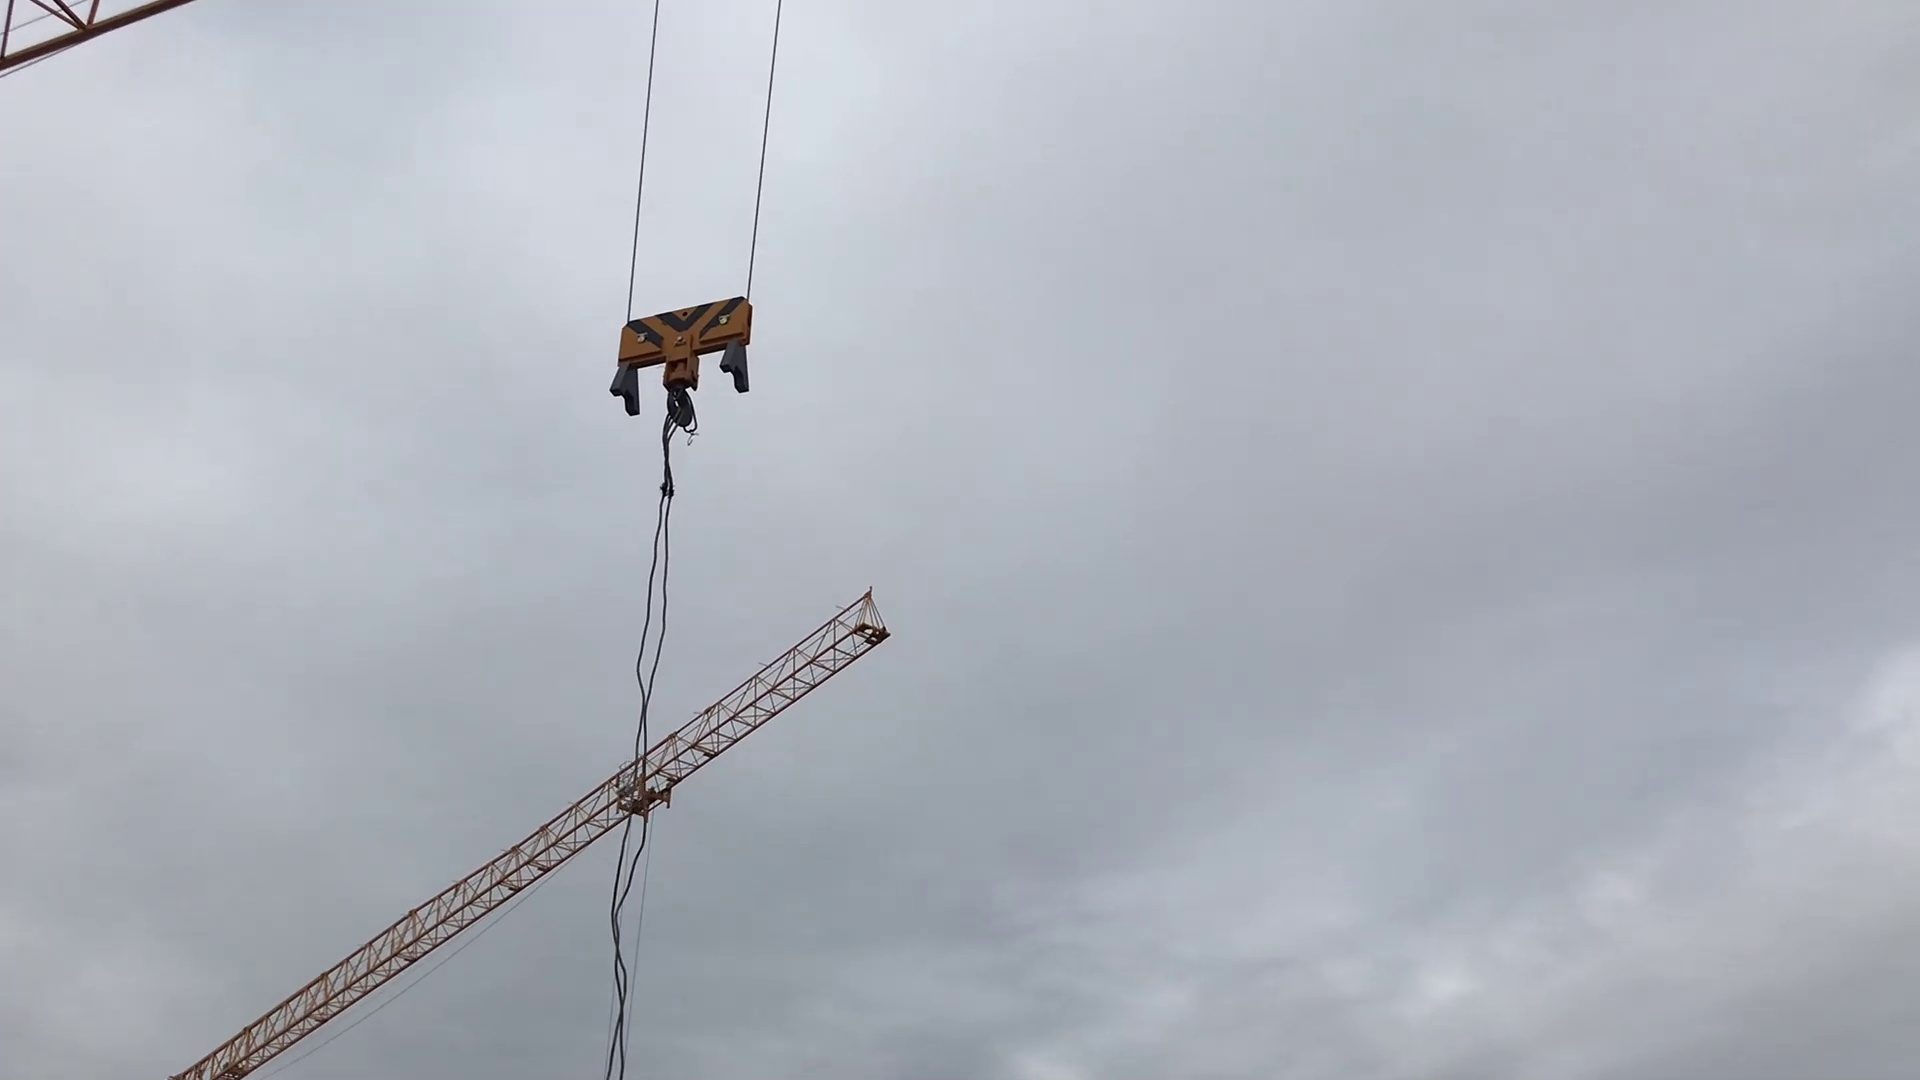hook: (607, 287, 762, 448)
